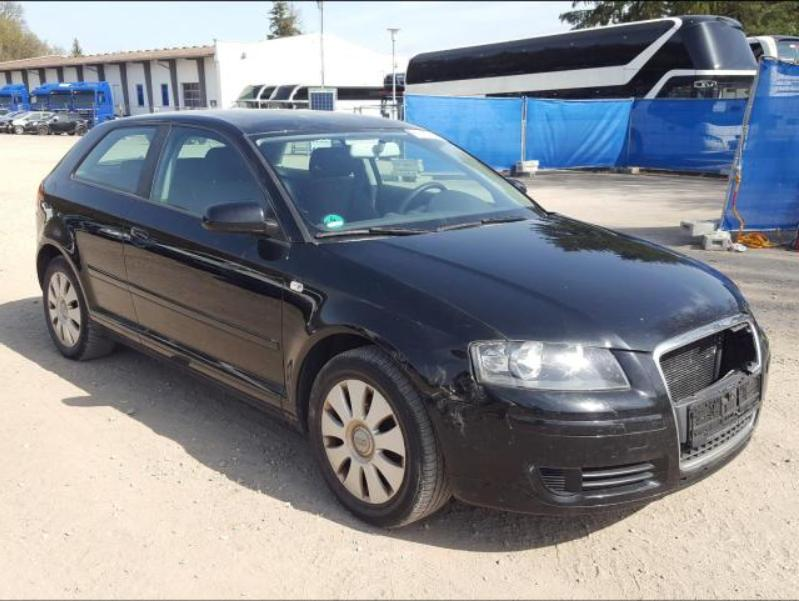Back-wheel: (40, 256, 113, 360)
Back-window: (72, 123, 161, 194)
Fender: (283, 244, 507, 423)
Front-bumper: (422, 304, 771, 513)
Front-door: (124, 114, 289, 410)
Front-wheel: (305, 344, 452, 528)
Front-window: (154, 122, 274, 218)
Grille: (652, 315, 765, 466)
Headlight: (469, 340, 629, 392)
Hood: (321, 208, 746, 353)
License-plate: (690, 371, 762, 444)
Mirror: (206, 198, 276, 241)
Quarter-panel: (35, 169, 142, 341)
Rocker-panel: (89, 315, 304, 438)
Roof: (110, 108, 423, 134)
Windshield: (247, 127, 534, 239)
